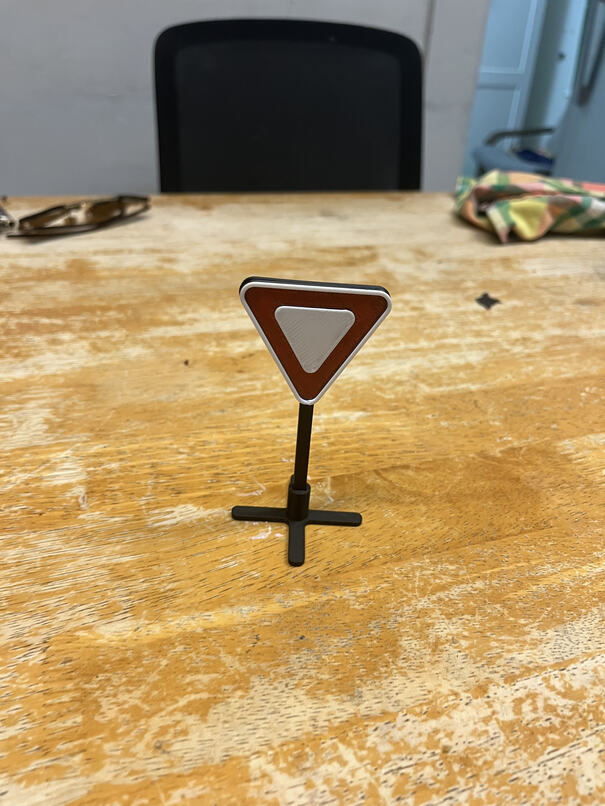sign_yield: (236, 272, 395, 406)
